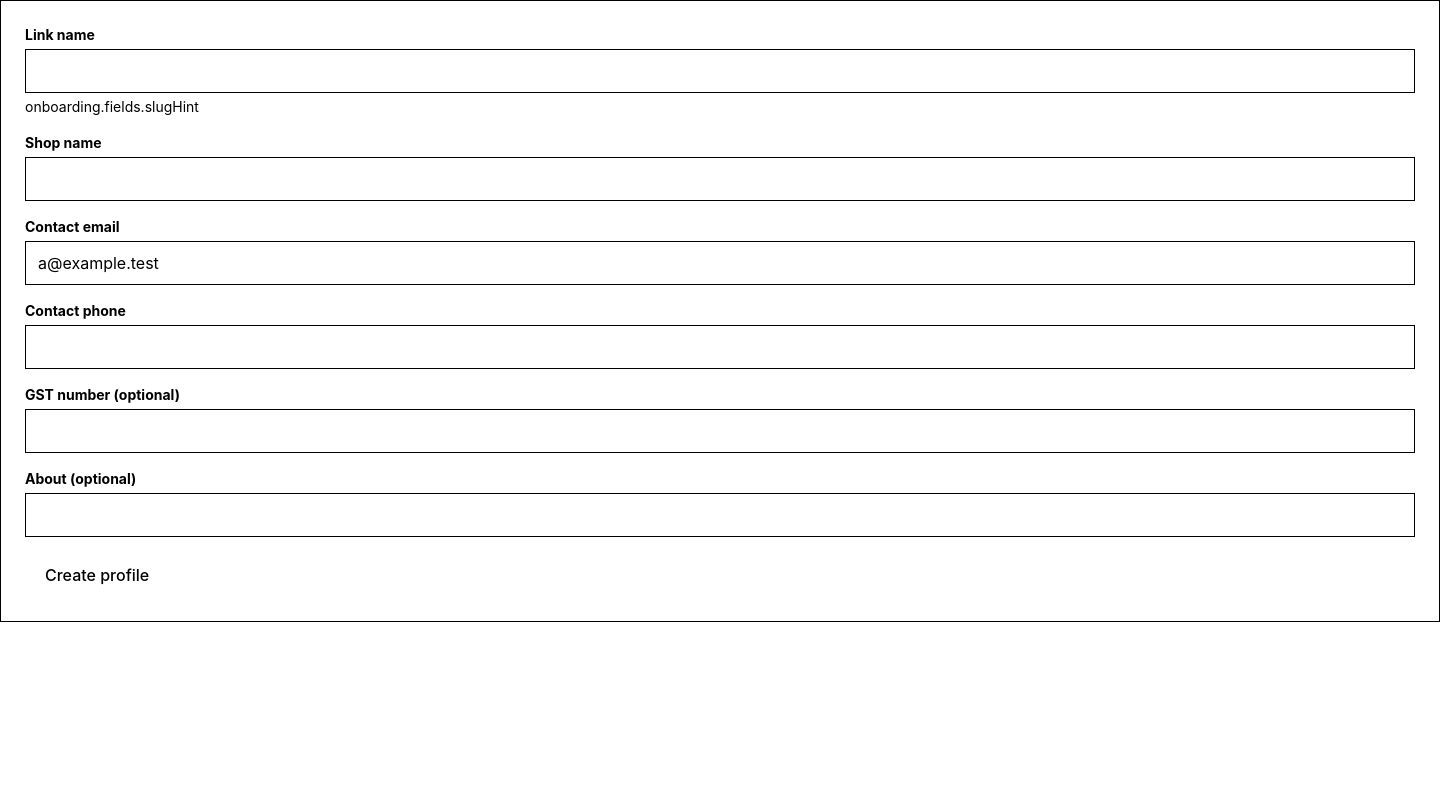
Test: ProfileForm › shows the fallback error when the request fails at the network level
In the field labelled "Link name": [720, 71] box x1=25 y1=49 x2=1415 y2=93, type "xiaolin-farm"
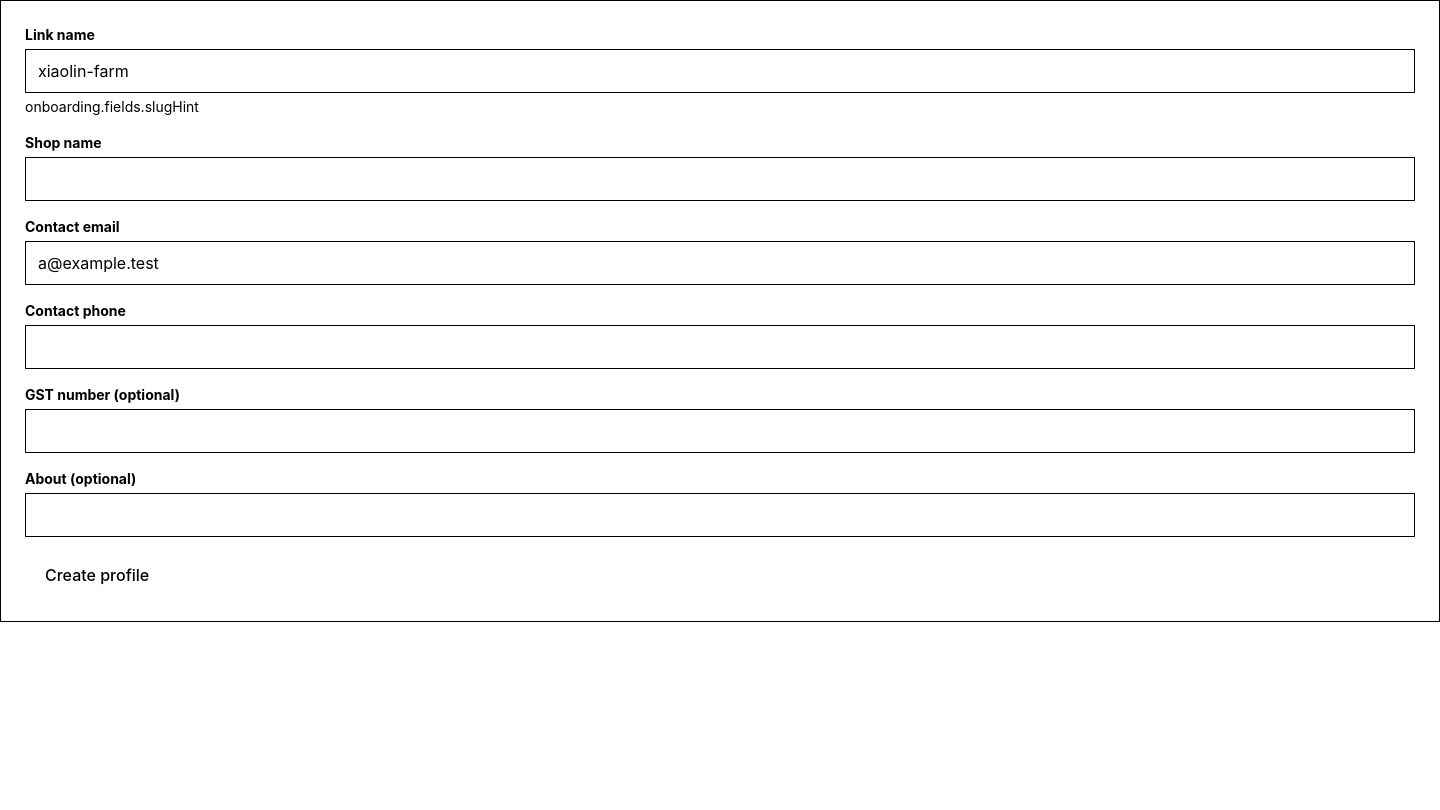
In the field labelled "Shop name": [720, 179] box x1=25 y1=157 x2=1415 y2=201, type "Xiaolin"
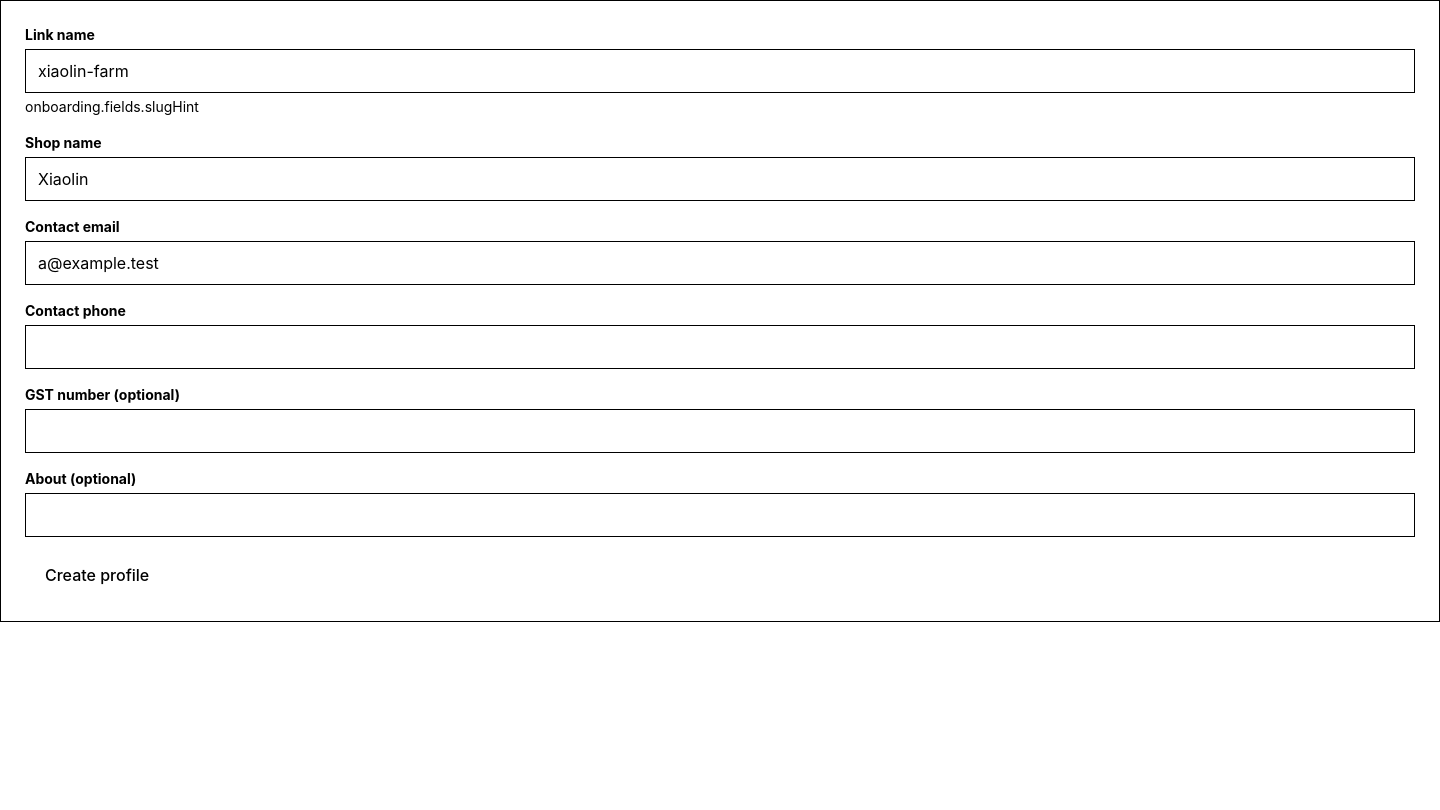
In the field labelled "Contact phone": [720, 347] box x1=25 y1=325 x2=1415 y2=369, type "021 123 4567"
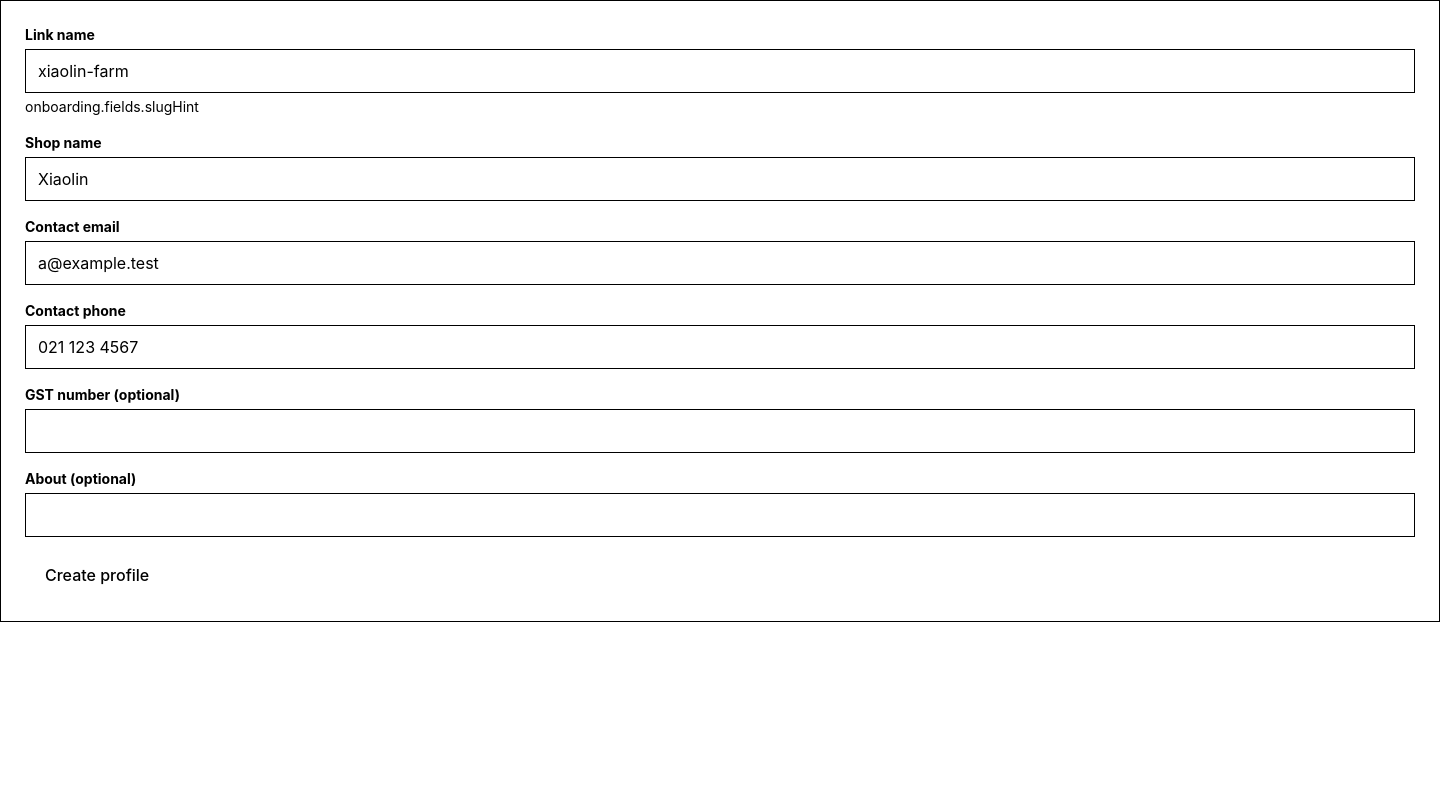
Click the button "Create profile": [97, 575] box x1=25 y1=553 x2=169 y2=597
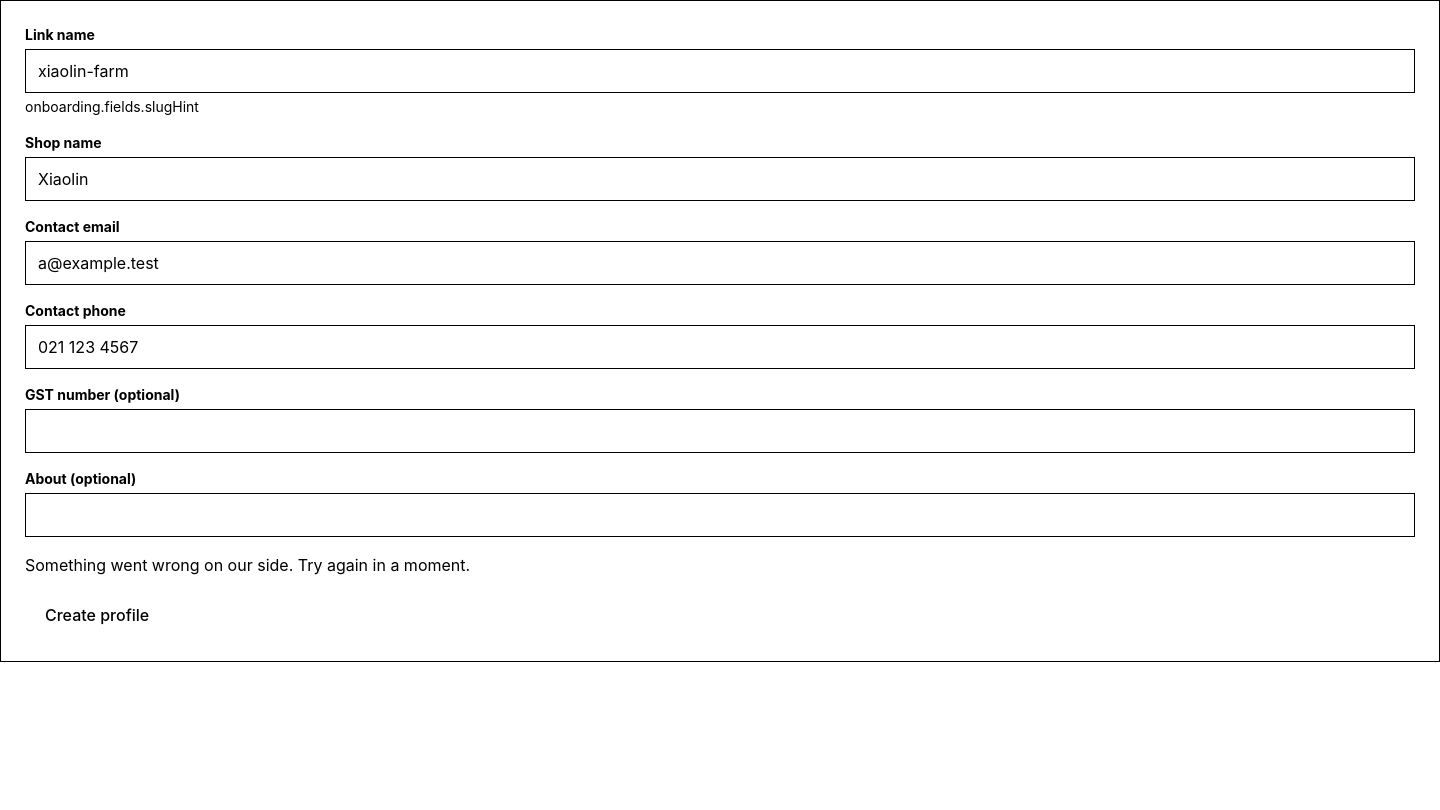
Expected: the button "Create profile" is enabled, x1=25 y1=593 x2=169 y2=637
Now the message reads "Something went wrong on our side. Try again in a moment.", box x1=25 y1=555 x2=470 y2=575
